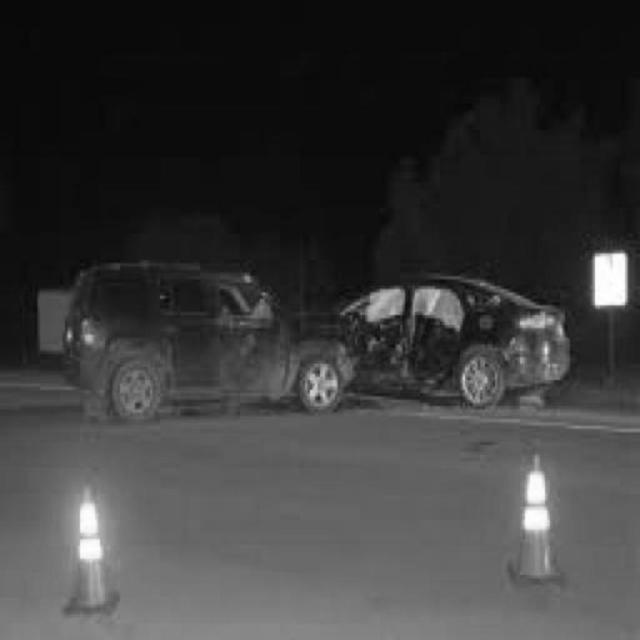accident: (71, 244, 566, 430)
